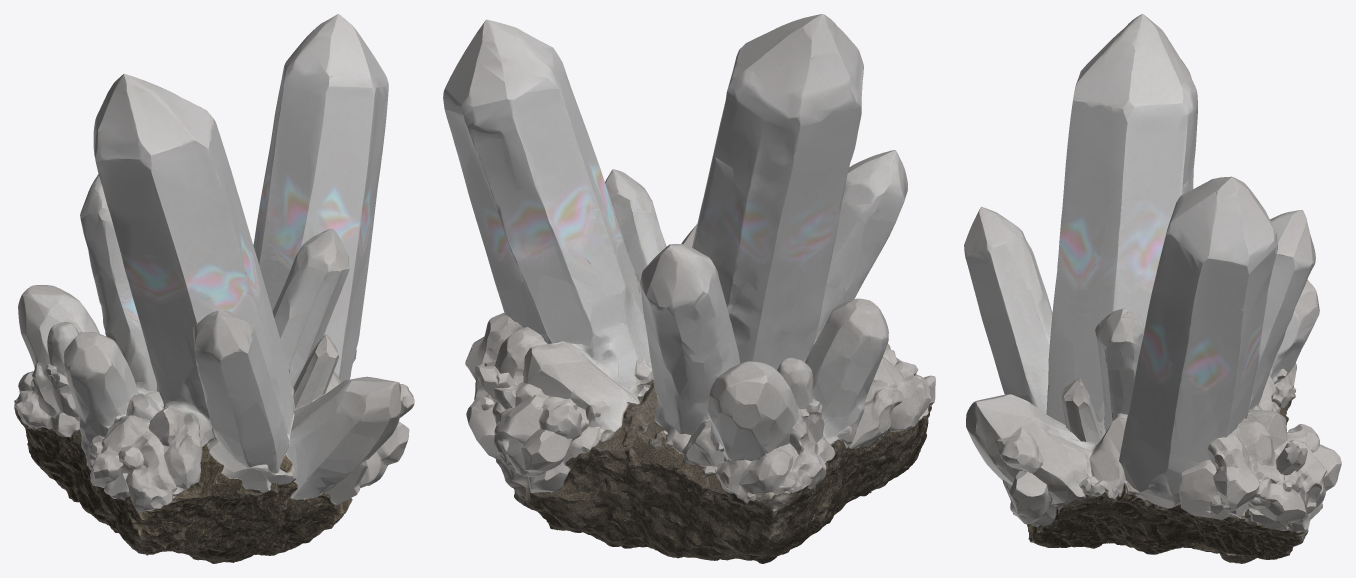
The model's file is quartz.glb.
The picture shows the model from 3 angles, left to right: view 1: azimuth 30°, elevation 25°; view 2: azimuth 150°, elevation 25°; view 3: azimuth 270°, elevation 25°; orthographic projection. The views are drawn at different scales.
Visible parts, largest first — view 1: Mesh_0; view 2: Mesh_0; view 3: Mesh_0.
Boxes of the visible parts, <box> form: Mesh_0: <box>14,14,414,563</box>; Mesh_0: <box>443,14,935,563</box>; Mesh_0: <box>964,14,1341,563</box>.
Bounding box in the file's own units: 1.48 × 1.9 × 1.34.
Materials: 1 (1 with a texture image).
